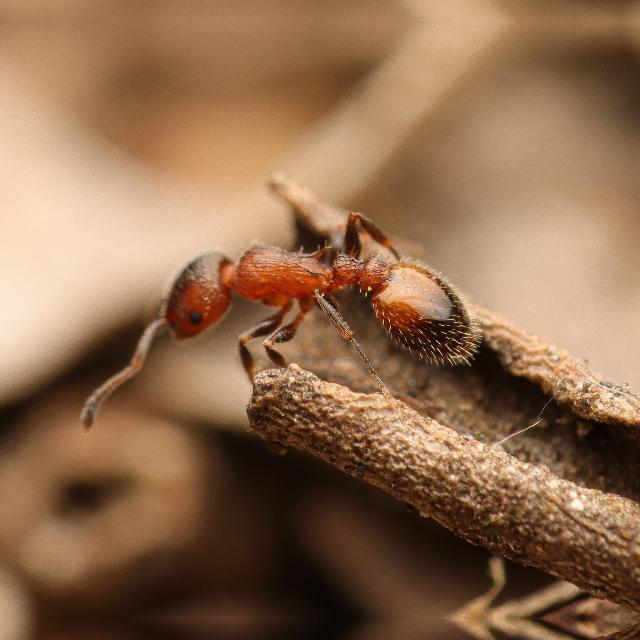Temnothorax: (111, 172, 479, 410)
